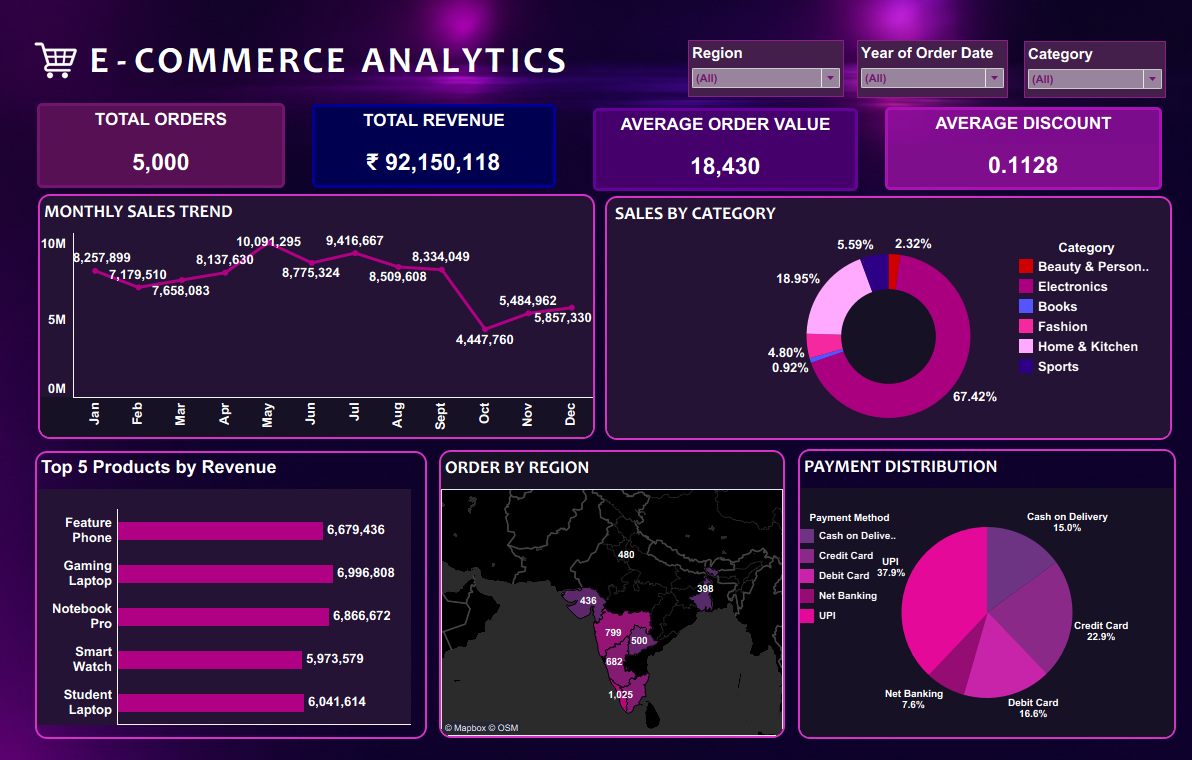

The dashboard page shown, as its layout file describes it:
{"tool":"tableau","page":{"name":"Dashboard 1","canvas":[1466,768],"ordinal":0},"visuals":[{"type":"worksheet","title":"Sheet","mark":"Circle","box":[778,32,17,11]},{"type":"text","box":[87,34,536,51]},{"type":"image","param":"C:/Users/Nithya S Nair/Downloads/l.png","box":[41,35,44,49]},{"type":"filter","title":"Sheet","param":"[federated.1biavcu04a0loa1bjsz821km3rdc].[none:Region:nk]","box":[689,40,156,57]},{"type":"filter","title":"Sheet","param":"[federated.1biavcu04a0loa1bjsz821km3rdc].[yr:Order_Date:ok]","box":[858,40,151,58]},{"type":"filter","title":"Sheet","param":"[federated.1biavcu04a0loa1bjsz821km3rdc].[none:Category:nk]","box":[1025,41,142,57]},{"type":"worksheet","title":"card2","mark":"Text","box":[320,102,254,87]},{"type":"worksheet","title":"card1","mark":"Text","box":[38,103,257,85]},{"type":"worksheet","title":"card3","mark":"Text","box":[599,103,260,88]},{"type":"worksheet","title":"card4","mark":"Text","box":[886,103,277,87]},{"type":"worksheet","title":"chart1","mark":"Line","rows":["Net_Sales_INR"],"cols":["Order_Date"],"box":[35,190,565,253]},{"type":"worksheet","title":"chart2 ","mark":"Pie","cols":["Calculation_1568242183028737","Calculation_1568242183028737"],"box":[602,192,575,252]},{"type":"legend","title":"chart2 ","param":"[federated.1biavcu04a0loa1bjsz821km3rdc].[none:Category:nk]","box":[1017,240,141,152]},{"type":"worksheet","title":"chart5","mark":"Pie","box":[795,445,386,298]},{"type":"worksheet","title":"chart4","mark":"Automatic","box":[436,446,354,296]},{"type":"worksheet","title":"chart3","mark":"Bar","rows":["Product_Name"],"cols":["Net_Sales_INR"],"box":[32,447,400,296]},{"type":"legend","title":"chart5","param":"[federated.1biavcu04a0loa1bjsz821km3rdc].[none:Payment_Method:nk]","box":[800,501,111,125]}]}

Visuals, with their boxes on the page's 1466x768 design canvas (x1, y1, x2, y2). These are canvas units, not pixel positions in the 1192x760 screenshot, which may show the page scaled, cropped or inside an application window:
"Sheet" worksheet (Circle marks): (778, 32, 795, 43)
text: (87, 34, 623, 85)
image: (41, 35, 85, 84)
"Sheet" filter: (689, 40, 845, 97)
"Sheet" filter: (858, 40, 1009, 98)
"Sheet" filter: (1025, 41, 1167, 98)
"card2" worksheet (Text marks): (320, 102, 574, 189)
"card1" worksheet (Text marks): (38, 103, 295, 188)
"card3" worksheet (Text marks): (599, 103, 859, 191)
"card4" worksheet (Text marks): (886, 103, 1163, 190)
"chart1" worksheet (Line marks): (35, 190, 600, 443)
"chart2 " worksheet (Pie marks): (602, 192, 1177, 444)
"chart2 " legend: (1017, 240, 1158, 392)
"chart5" worksheet (Pie marks): (795, 445, 1181, 743)
"chart4" worksheet: (436, 446, 790, 742)
"chart3" worksheet (Bar marks): (32, 447, 432, 743)
"chart5" legend: (800, 501, 911, 626)
